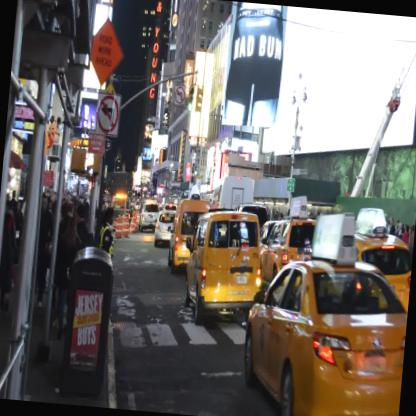car: (239, 252, 412, 415), (182, 207, 264, 332), (258, 214, 318, 291), (166, 197, 215, 276), (152, 209, 178, 248), (136, 199, 160, 235)
